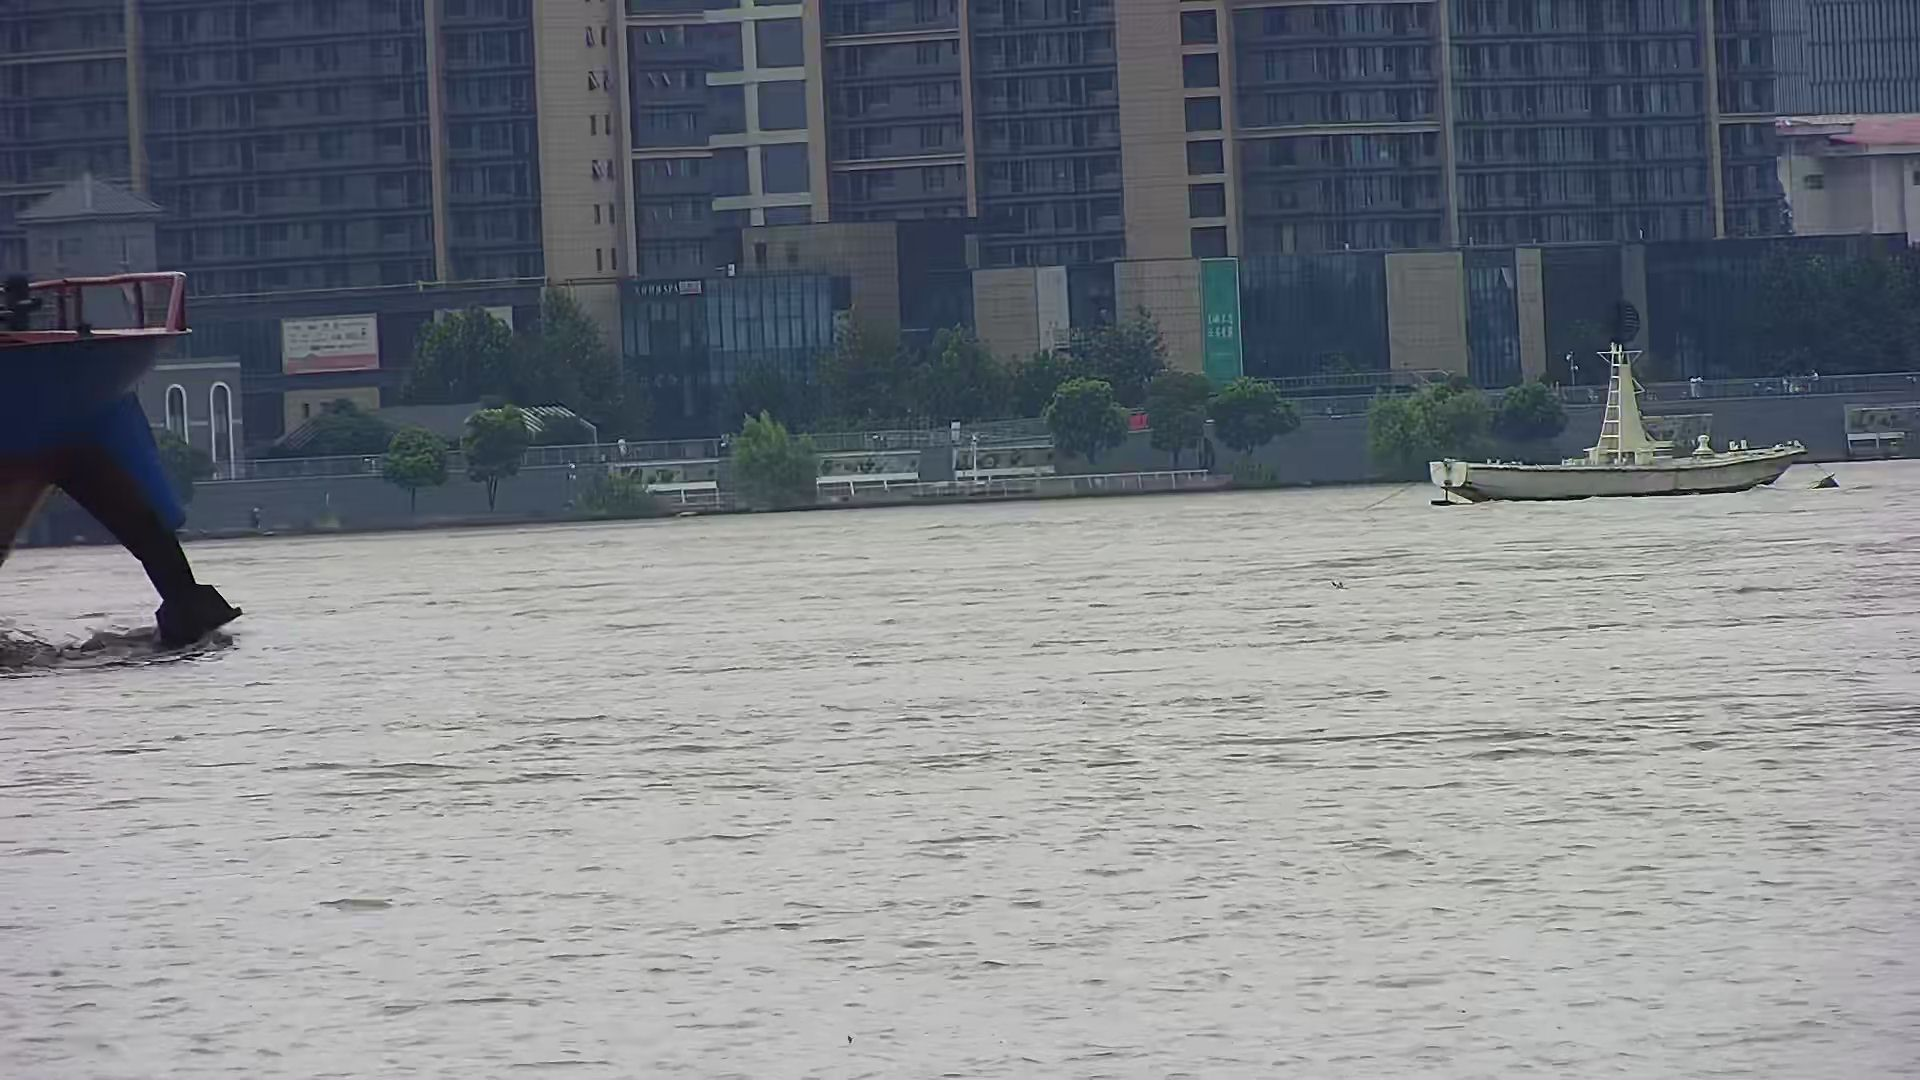boat: (1429, 305, 1809, 504)
